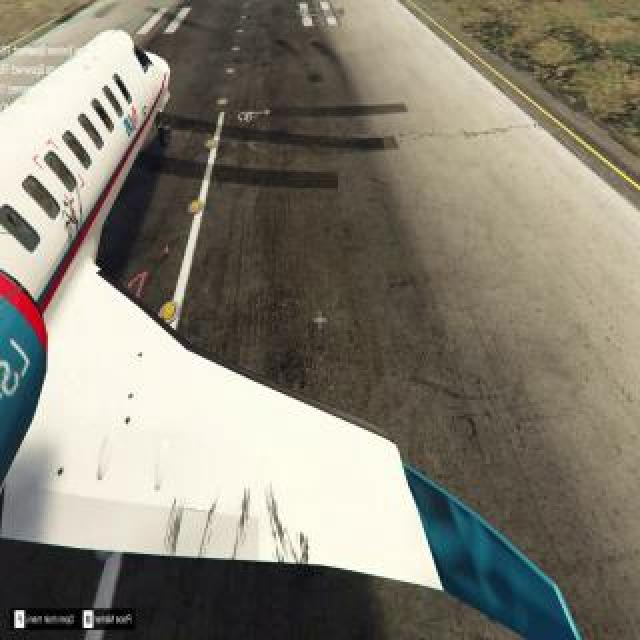crack: (53, 463, 65, 483), (125, 416, 133, 432), (127, 392, 135, 404), (137, 348, 145, 360)
dent: (270, 486, 285, 539), (169, 509, 184, 557), (65, 203, 78, 248), (242, 489, 251, 536), (300, 543, 308, 563)
